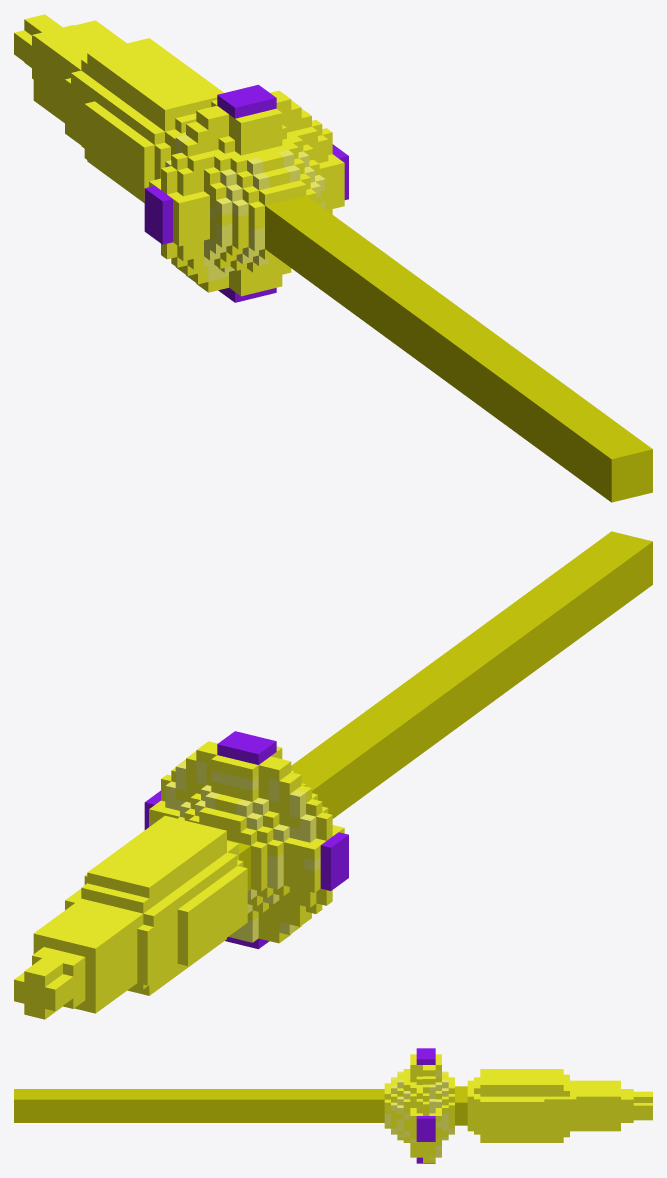
File: LanzaOdin.obj
The picture shows the model from 3 angles, top to bottom: view 1: azimuth 30°, elevation 25°; view 2: azimuth 150°, elevation 25°; view 3: azimuth 270°, elevation 25°; orthographic projection. The views are drawn at different scales.
Bounding box in the file's own units: 1.8 × 1.8 × 10.
Materials: 1 (1 with a texture image).
